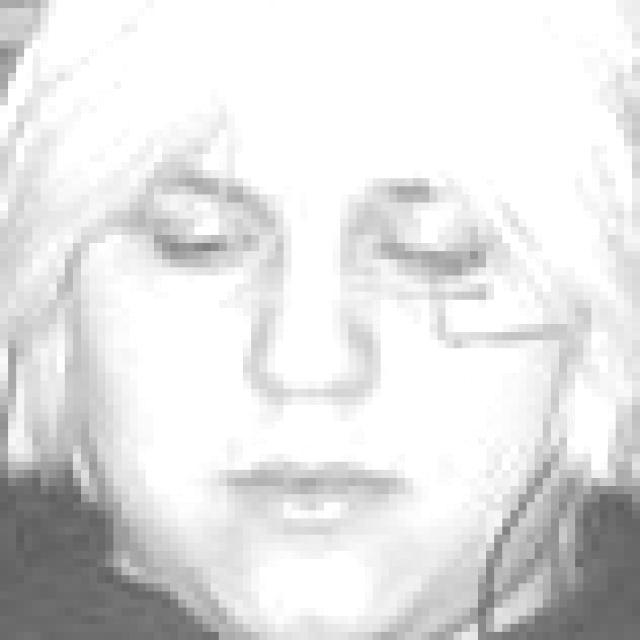real: (58, 8, 560, 628), (128, 180, 521, 296)
